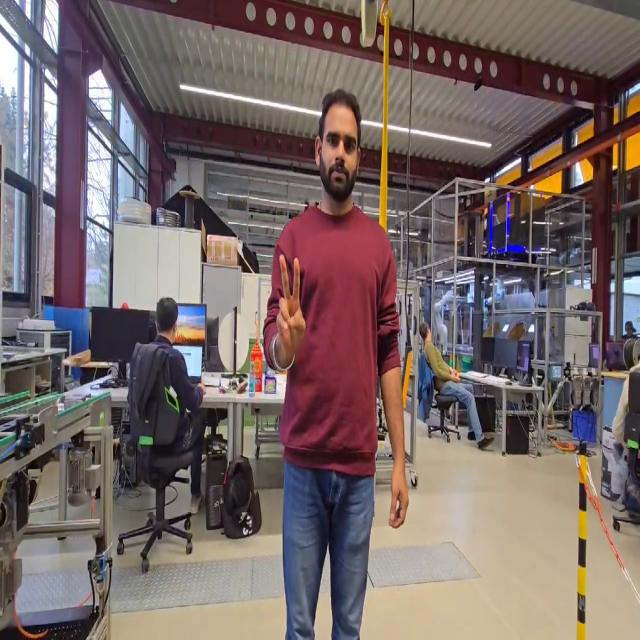v_sign: (273, 250, 307, 362)
